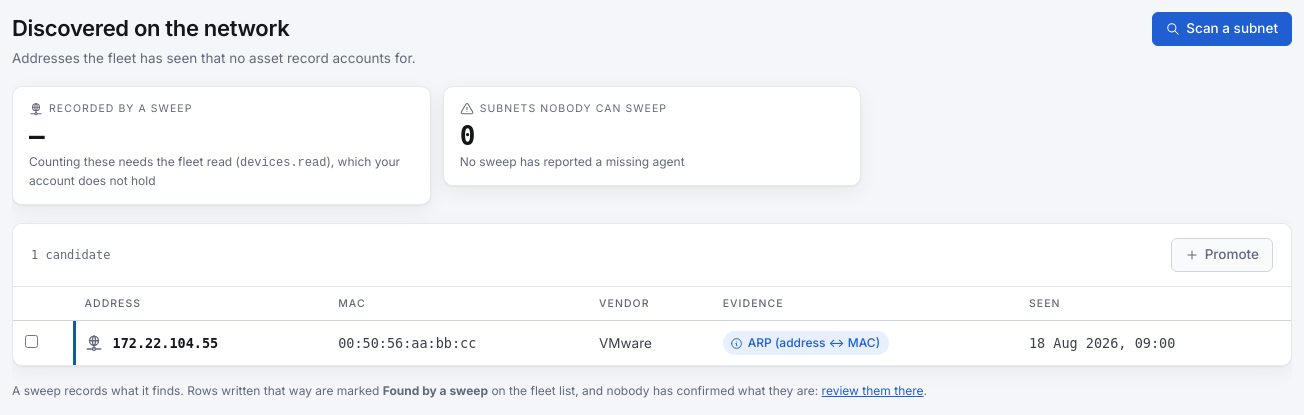
the tiles are links › keeps the two counts whose tiles were deleted for having nowhere to go
Check: the text "1 candidate" is shown, box [31, 246, 110, 264]
Step 1. Click the checkbox named "172.22.104.55" → (32, 342), box [25, 335, 38, 348]
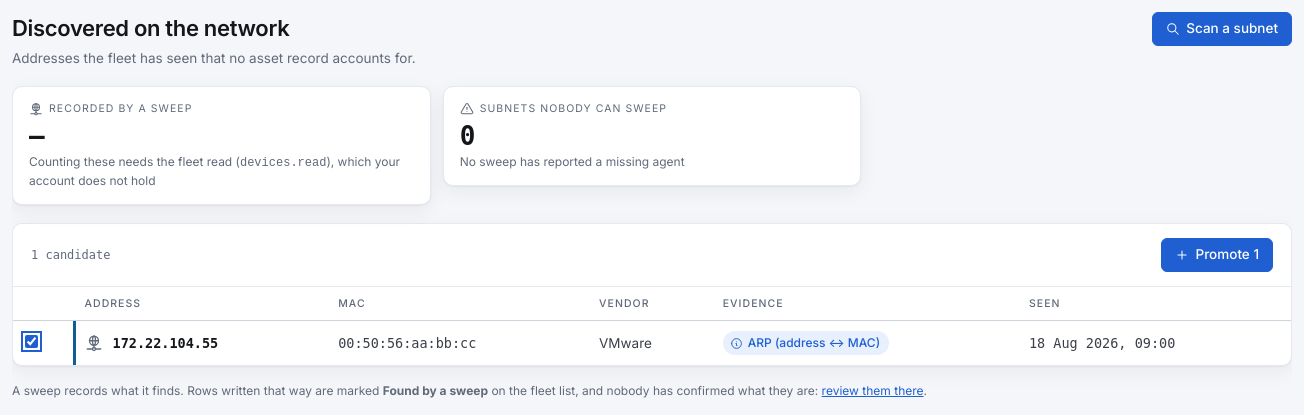
Check: the button "Promote 1" is shown, box [1162, 238, 1273, 272]
